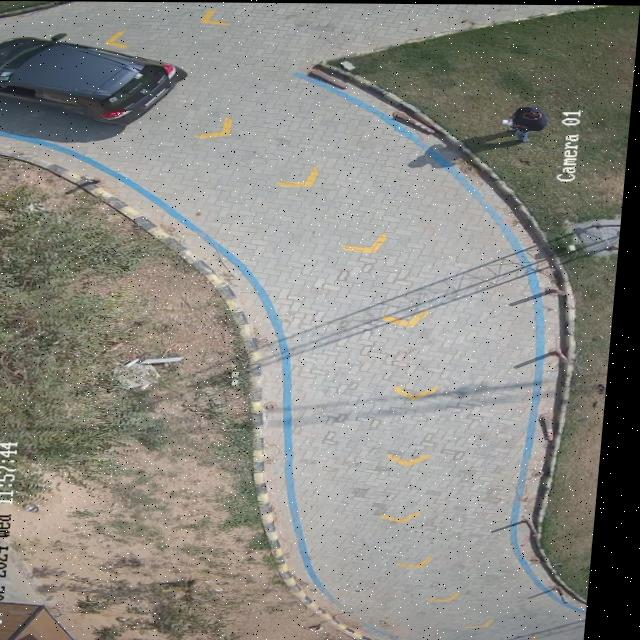car: (0, 32, 188, 124)
